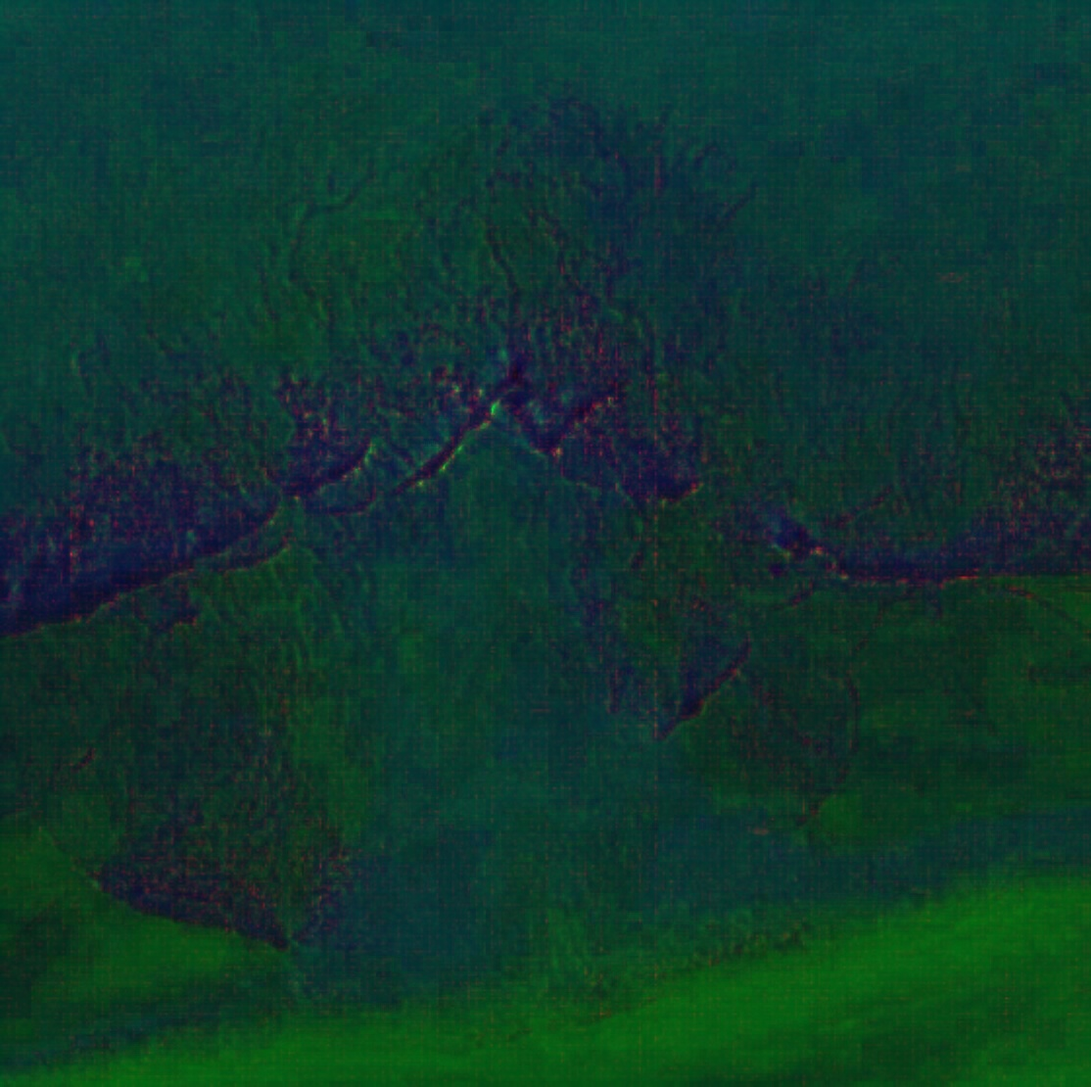rip_current: (239, 289, 732, 925)
